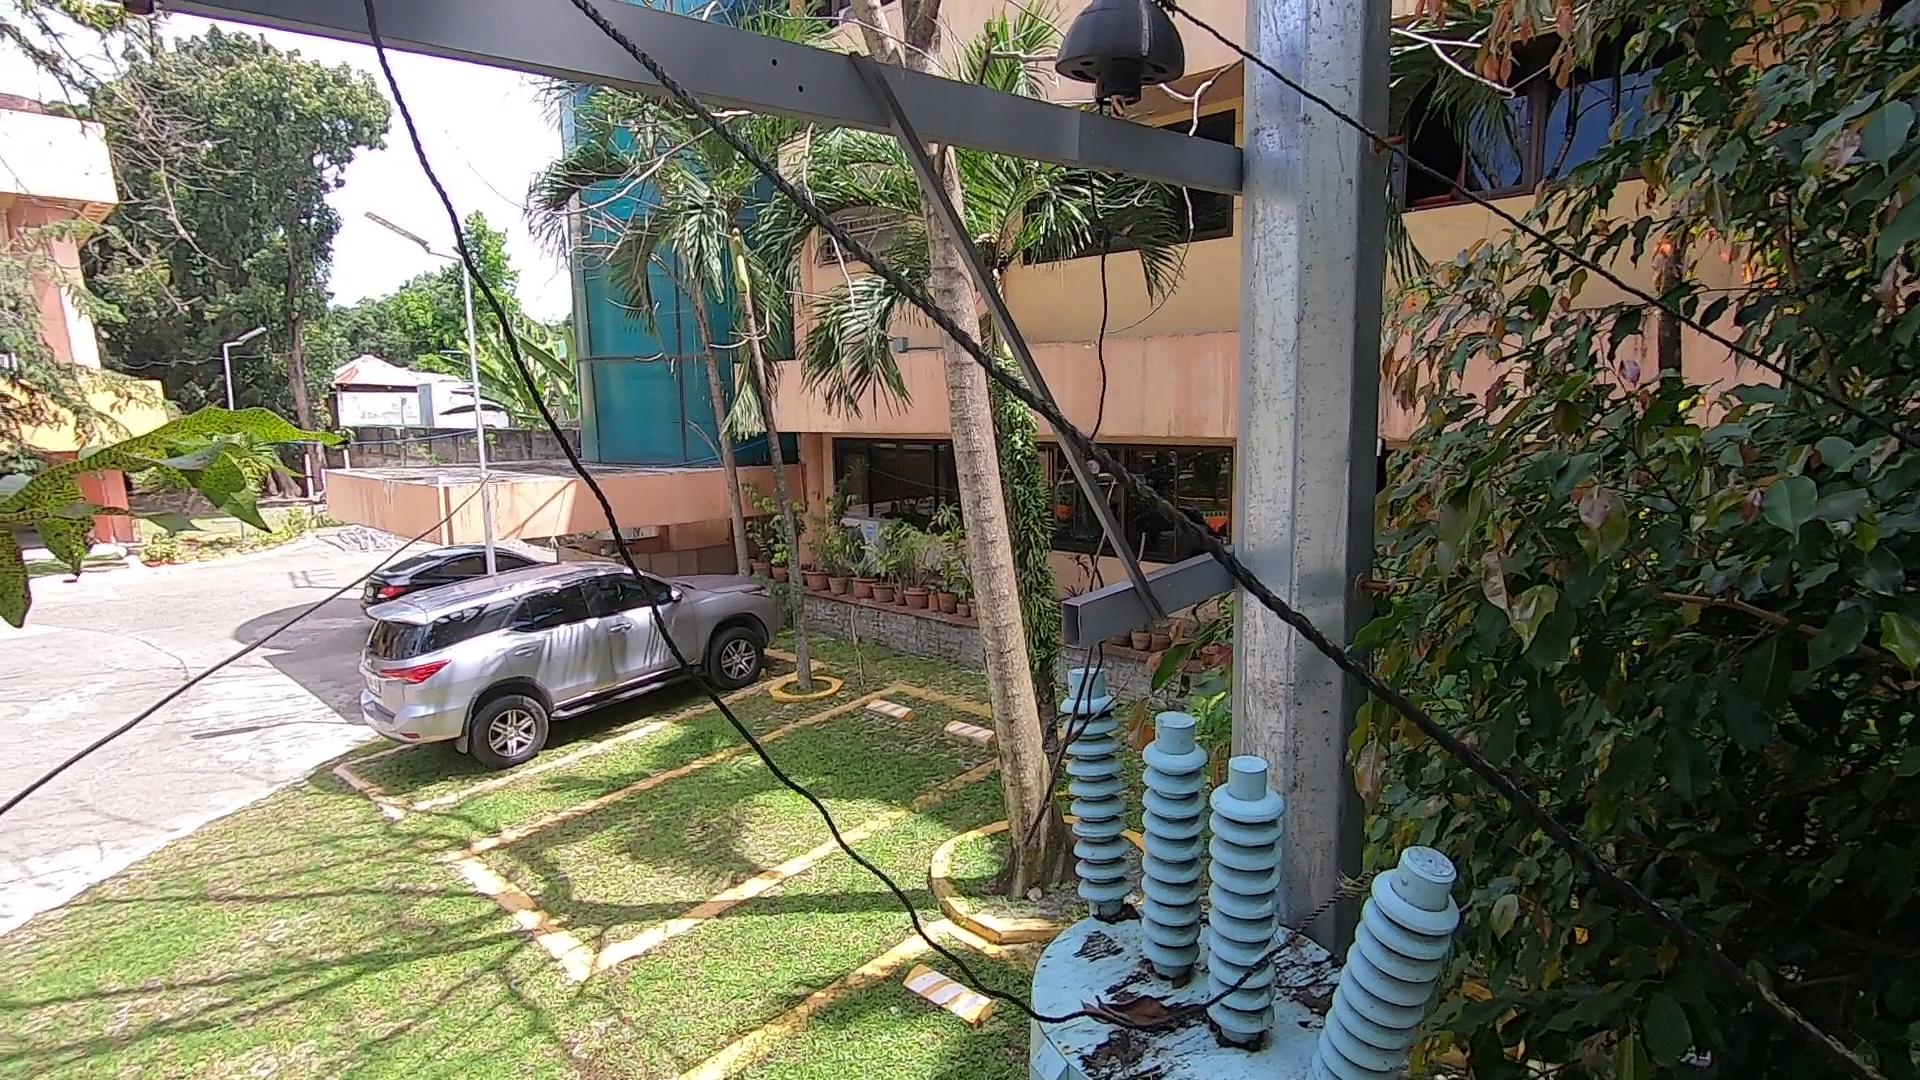leaf: (1081, 973, 1211, 1048), (1095, 899, 1147, 935), (1292, 980, 1331, 1015)
tree branch: (1006, 407, 1145, 848)
